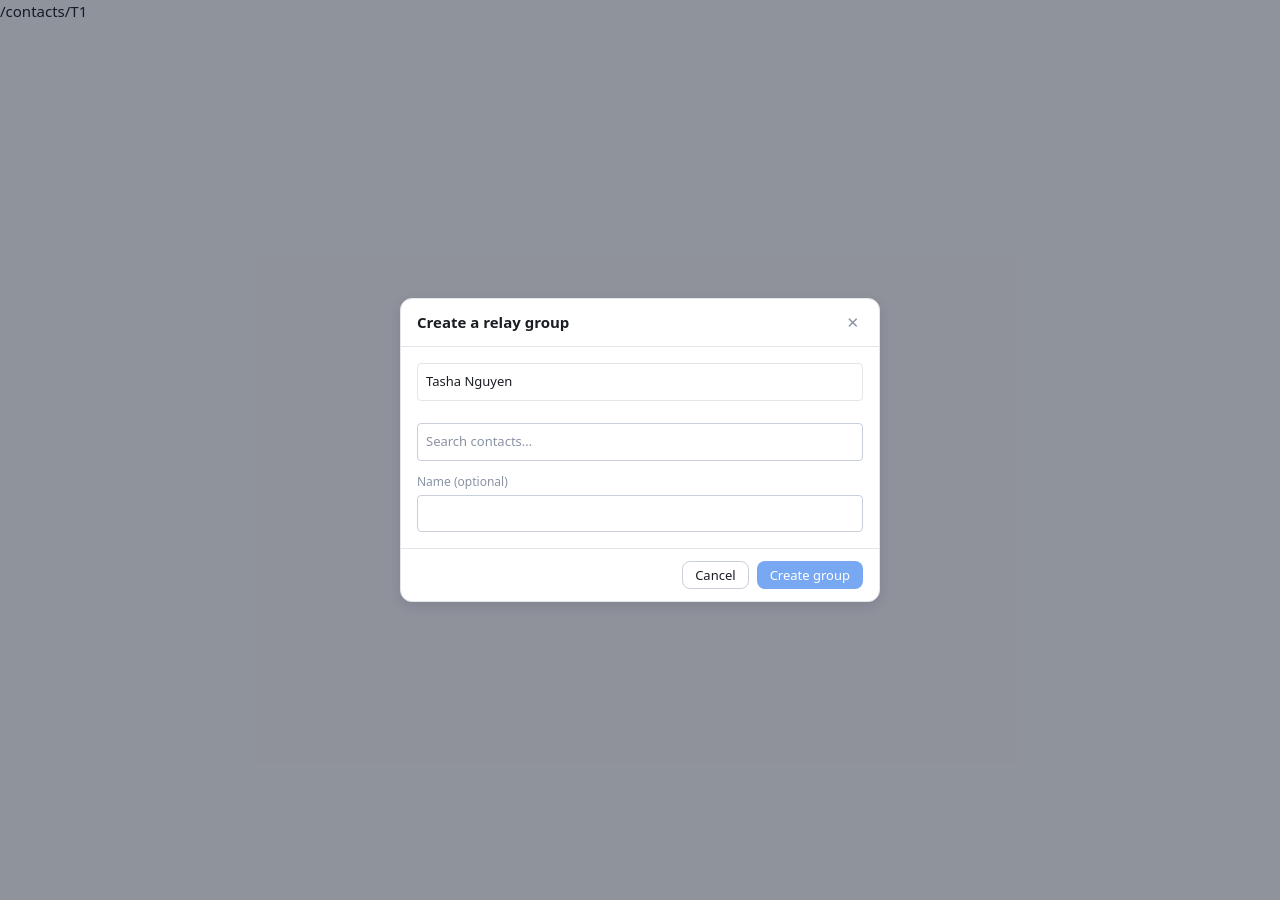
Scenario: CreateRelayGroupModal - the picker › disables Create group below TWO rows and enables it once a member is added
Expected: the button "Create group" is disabled, [757,561,863,589]
Type "Marcus" into the dropdown named "Add member" at x=640, y=442, box [417,423,863,460]
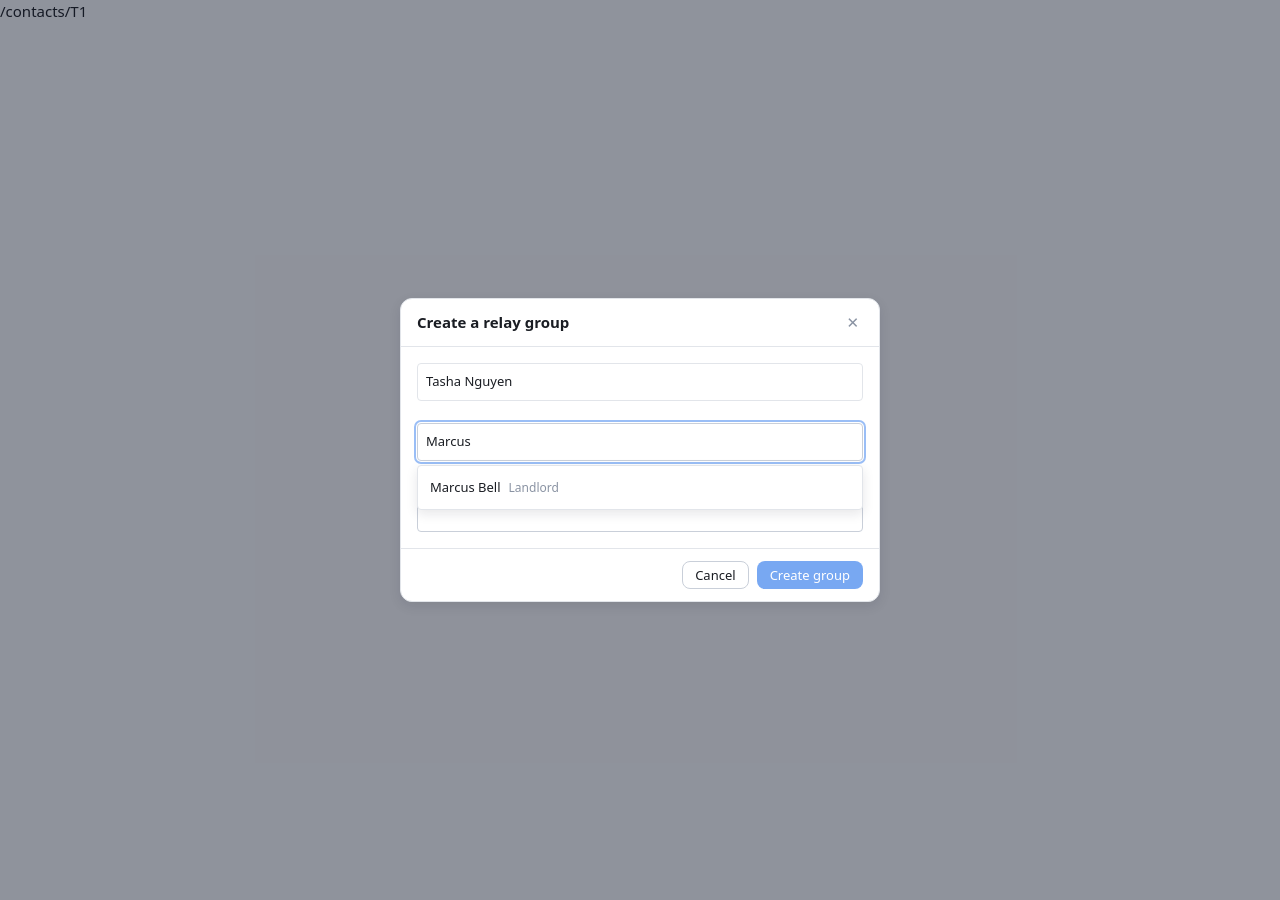
Click the option "Marcus Bell" at x=494, y=486, box [430,478,559,496]
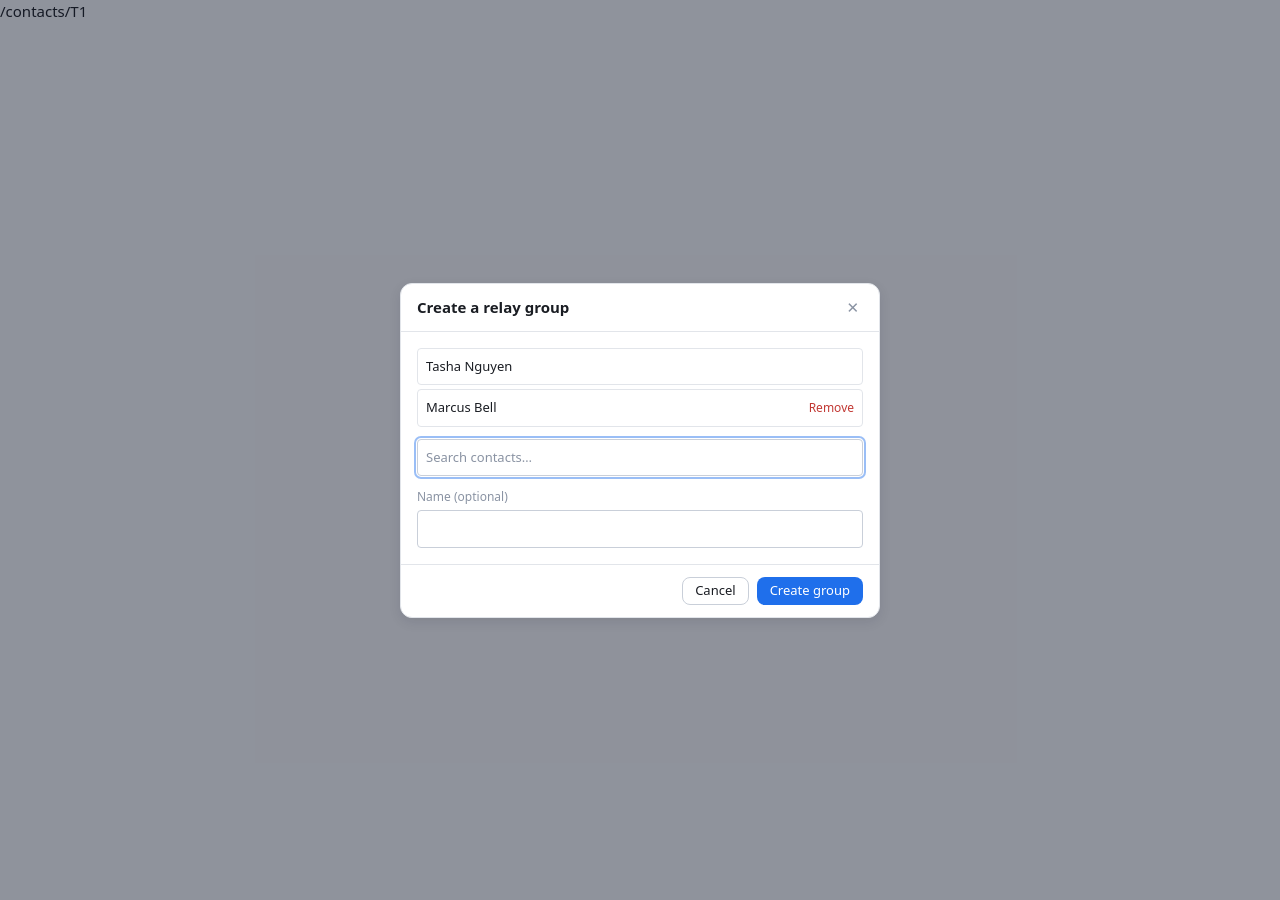
Expected: the button "Create group" is enabled, [757,576,863,604]
